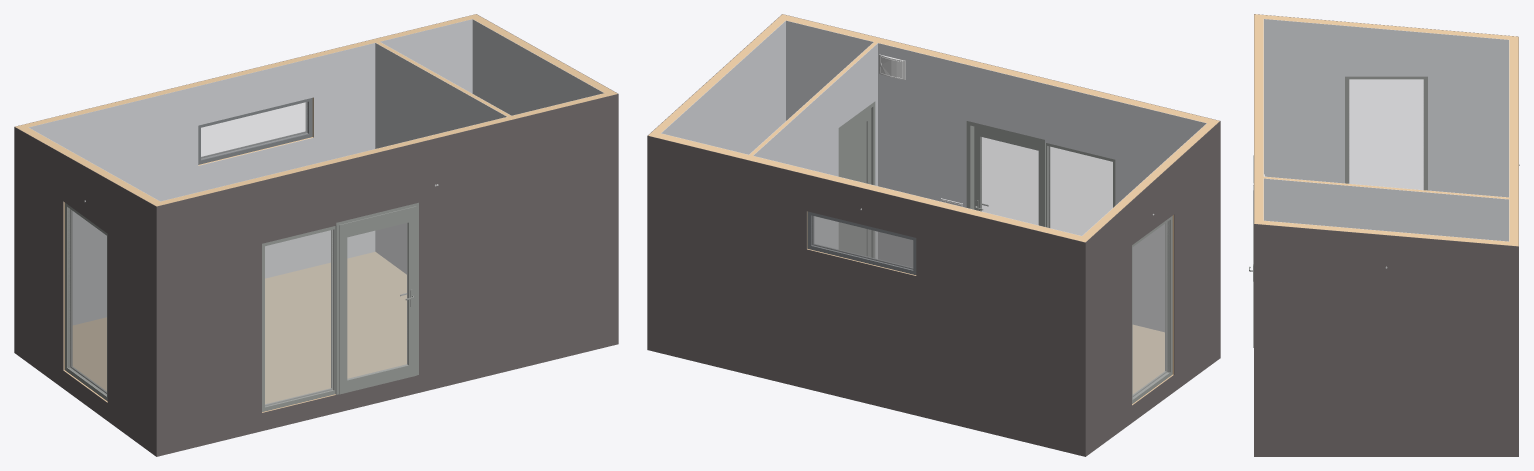
3 views of the same model, side by side, from view 1: azimuth 30°, elevation 25°; view 2: azimuth 150°, elevation 25°; view 3: azimuth 270°, elevation 25° (orthographic). The views are drawn at different scales.
Visible parts, largest first — view 1: IfcWall/Part:2323915, IfcWall/Part:2323920, IfcWall/Part:2323912, IfcSlab/Part:2323923, IfcDoor/Lauko durys:1000x2100:2332108, IfcWindow/Langai:2100 x 1000:2330751, IfcWall/Part:2323909, IfcWindow/Langai:2100 x 1000:2334172, IfcWall/Part:2323917, IfcWindow/Langai:1500 x 600:2333641, IfcWall/Part:2323922, IfcWall/Part:2323916 (+2 smaller); view 2: IfcWall/Part:2323921, IfcWall/Part:2323914, IfcWall/Part:2323912, IfcWall/Part:2323917, IfcWall/Part:2323909, IfcDoor/Lauko durys:1000x2100:2332108, IfcWindow/Langai:2100 x 1000:2334172, IfcWindow/Langai:2100 x 1000:2330751, IfcWindow/Langai:1500 x 600:2333641, IfcDoor/Vidaus durys:800x2100mm (dešininės, rakinamos):23334, IfcWall/Part:2323922, IfcWall/Part:2323916 (+5 smaller); view 3: IfcWall/Part:2323918, IfcWall/Part:2323911, IfcWall/Part:2323908, IfcWindow/Langai:2100 x 1000:2334172, IfcWall/Part:2323922, IfcWall/Part:2323916, IfcWall/Part:2323919, IfcWall/Part:2323913, IfcWall/Part:2323910, IfcWall/Part:2323921.
Part boxes in pixels (x1,y1,x2,y2): IfcWall/Part:2323915: (156, 94, 618, 456); IfcWall/Part:2323920: (28, 19, 472, 325); IfcWall/Part:2323912: (14, 127, 156, 456); IfcSlab/Part:2323923: (72, 252, 406, 403); IfcDoor/Lauko durys:1000x2100:2332108: (333, 202, 418, 394); IfcWindow/Langai:2100 x 1000:2330751: (262, 226, 335, 411); IfcWall/Part:2323909: (375, 43, 506, 274); IfcWindow/Langai:2100 x 1000:2334172: (64, 202, 107, 401); IfcWall/Part:2323917: (472, 19, 604, 115); IfcWindow/Langai:1500 x 600:2333641: (198, 98, 312, 164); IfcWall/Part:2323922: (15, 14, 480, 165); IfcWall/Part:2323916: (152, 93, 608, 412); IfcWall/Part:2323921: (647, 135, 1085, 456); IfcWall/Part:2323914: (786, 20, 1206, 332); IfcWall/Part:2323912: (1085, 121, 1220, 456); IfcWall/Part:2323917: (661, 21, 785, 154); IfcWall/Part:2323909: (753, 43, 877, 258); IfcDoor/Lauko durys:1000x2100:2332108: (966, 121, 1048, 227); IfcWindow/Langai:2100 x 1000:2334172: (1132, 216, 1172, 403); IfcWindow/Langai:2100 x 1000:2330751: (1046, 143, 1115, 235); IfcWindow/Langai:1500 x 600:2333641: (807, 211, 916, 274); IfcDoor/Vidaus durys:800x2100mm (dešininės, rakinamos):23334: (838, 101, 875, 258); IfcWall/Part:2323922: (648, 131, 1089, 275); IfcWall/Part:2323916: (786, 16, 1219, 124); IfcWall/Part:2323918: (1254, 224, 1518, 456); IfcWall/Part:2323911: (1264, 19, 1508, 197); IfcWall/Part:2323908: (1264, 178, 1508, 241); IfcWindow/Langai:2100 x 1000:2334172: (1345, 76, 1427, 190); IfcWall/Part:2323922: (1509, 36, 1518, 246); IfcWall/Part:2323916: (1254, 14, 1263, 220); IfcWall/Part:2323919: (1254, 220, 1509, 245); IfcWall/Part:2323913: (1263, 15, 1509, 39); IfcWall/Part:2323910: (1263, 176, 1509, 199); IfcWall/Part:2323921: (1518, 37, 1518, 456).
Bounding box in the file's own units: 602 × 310 × 327.
